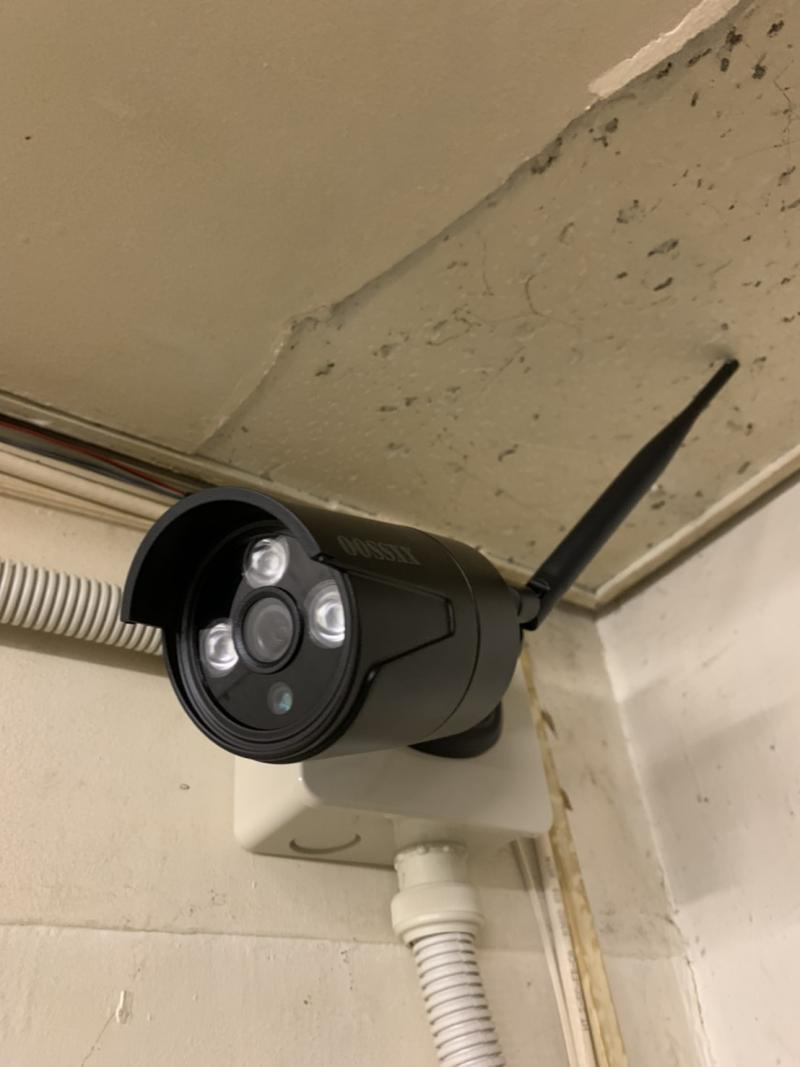tutu: (148, 493, 583, 793)
